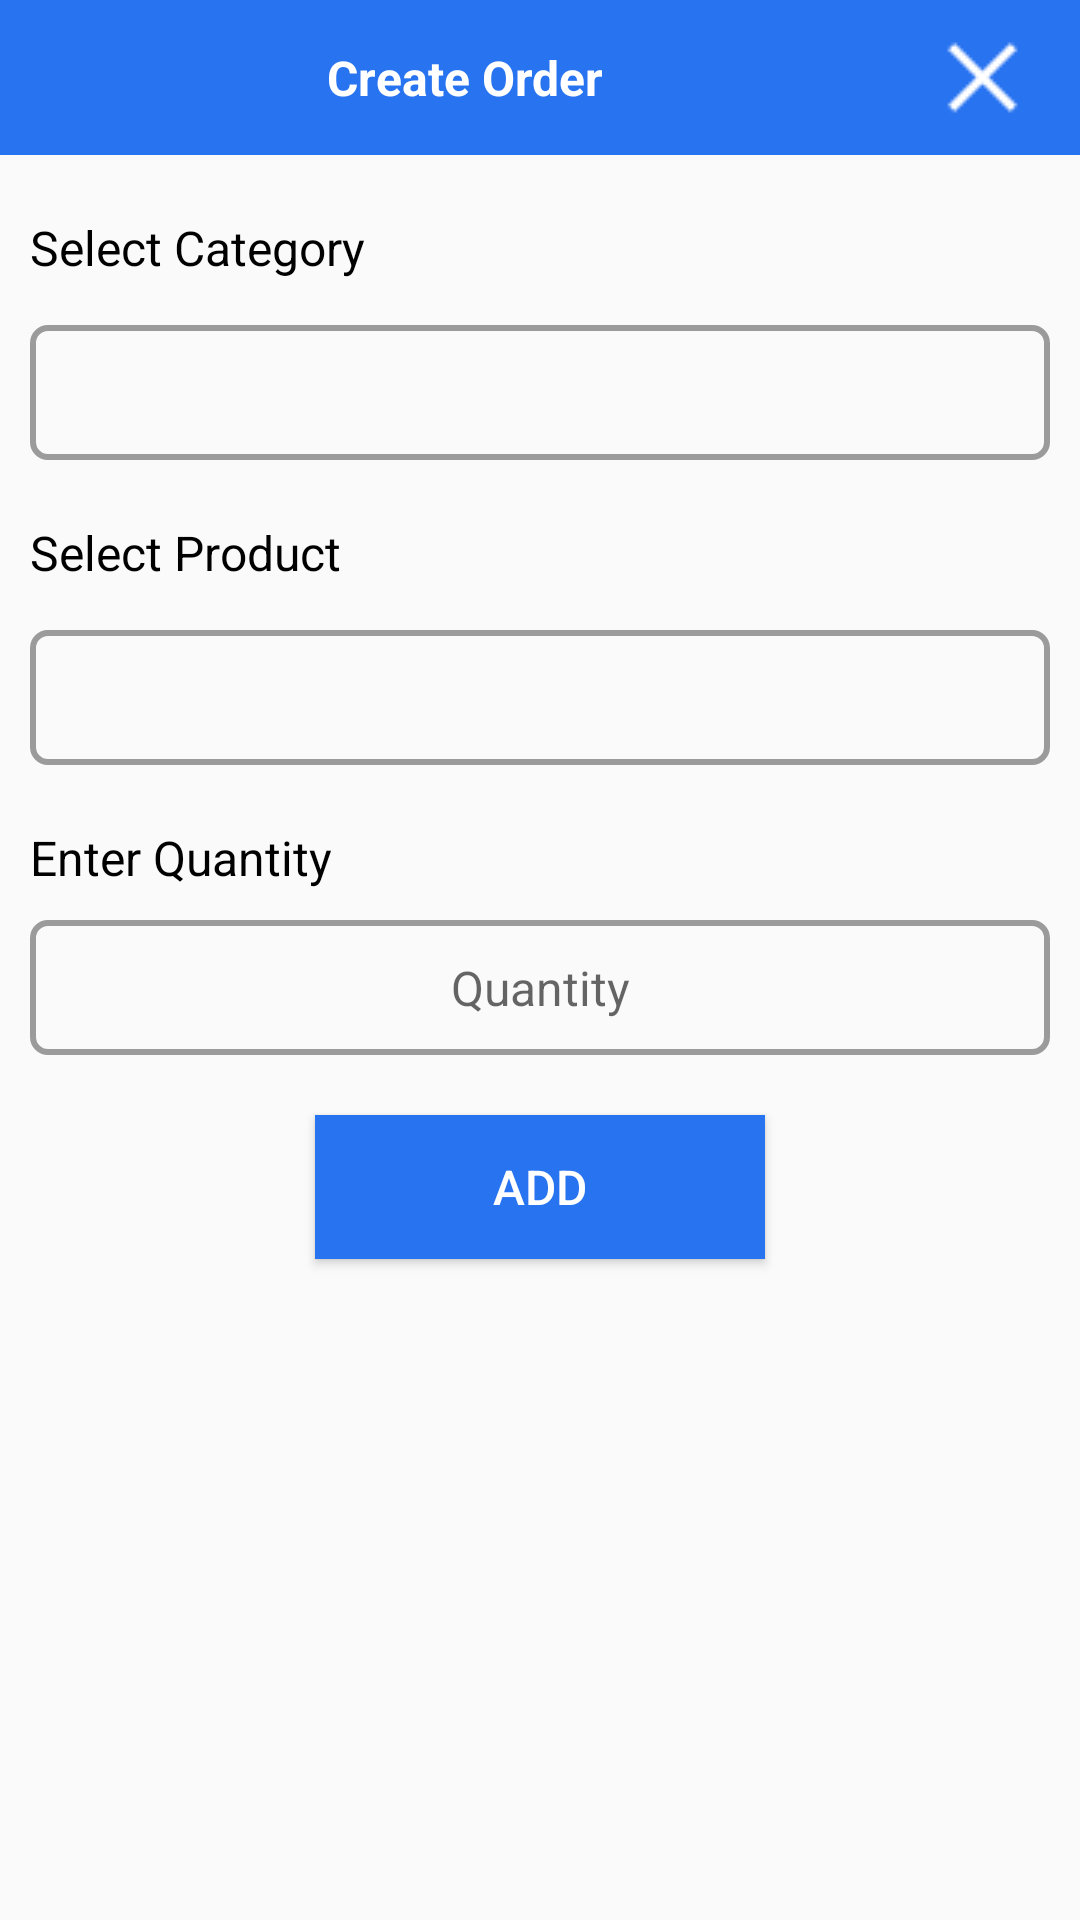

Icon bounding boxes for this 1080w x 1920h phone screenshot, format {"x1": x1, "y1": y1, "x2": x2, "y2": y2}:
cancel: {"x1": 947, "y1": 42, "x2": 1018, "y2": 113}
